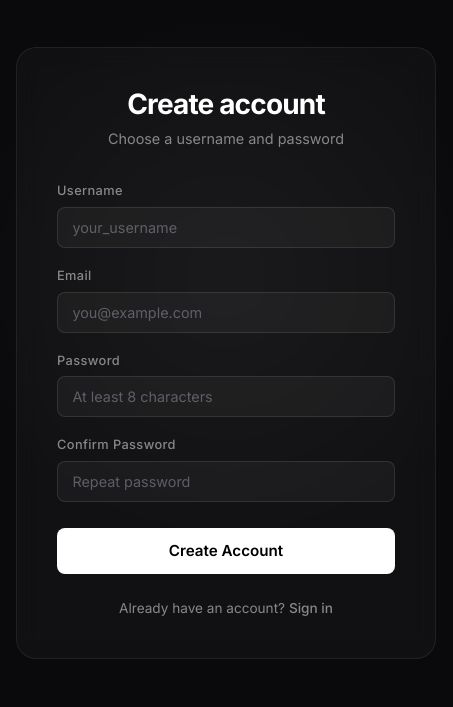
Test case: SignUp form — validation › requires username
The image size is (453, 707).
Click the button "Create Account". click: point(226, 551)
box: [57,528,395,574]
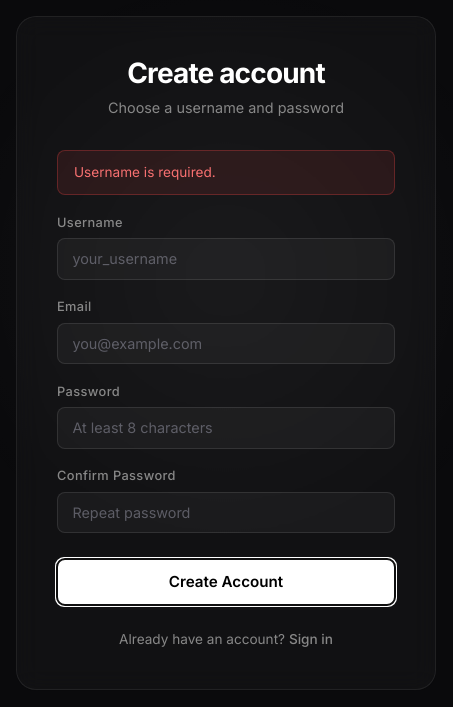
Expected: the text "Username is required." is shown, [57,150,395,195]
